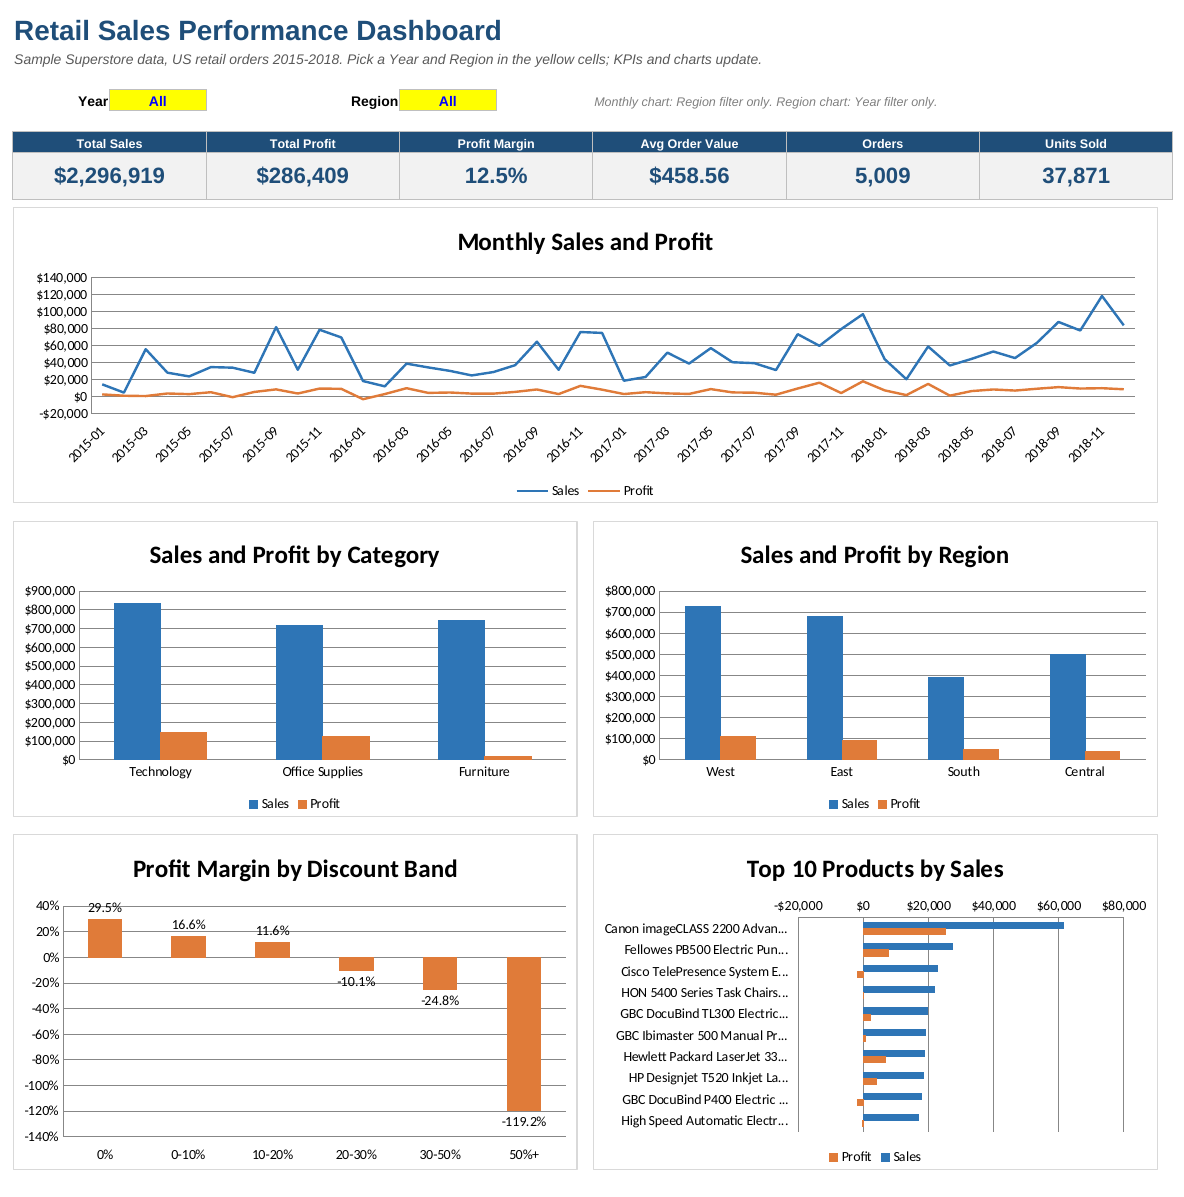

What the dashboard file says about the page in this screenshot:
{"tool":"powerbi","page":{"name":"Overview","canvas":[1920,1080],"ordinal":1},"visuals":[{"type":"slicer","fields":{"Values":["DateTable.Year"]},"box":[35,16.5,179.1,232.6],"z":0},{"type":"slicer","fields":{"Values":["orders_clean.Region"]},"box":[230.5,16.5,150.3,232.6],"z":1000},{"type":"slicer","fields":{"Values":["orders_clean.Category"]},"box":[419.9,16.5,187.3,232.6],"z":2000},{"type":"cardVisual","fields":{"Data":["orders_clean.Total Sales"]},"box":[646.3,12.3,180,180],"z":3000},{"type":"cardVisual","fields":{"Data":["orders_clean.Total Profit"]},"box":[825.4,10.3,179.1,185.2],"z":4000},{"type":"cardVisual","fields":{"Data":["orders_clean.Profit Margin %"]},"box":[1003.6,13.2,180,180],"z":5000},{"type":"cardVisual","fields":{"Data":["orders_clean.Orders"]},"box":[1182.7,15.2,180,180],"z":6000},{"type":"cardVisual","fields":{"Data":["orders_clean.Avg Order Value"]},"box":[1536.7,17.3,180,180],"z":7000},{"type":"cardVisual","fields":{"Data":["orders_clean.Units Sold"]},"box":[1361.8,15.2,180,180],"z":8000},{"type":"cardVisual","fields":{"Data":["orders_clean.Avg Discount %"]},"box":[1715.8,17.3,180,180],"z":9000},{"type":"lineChart","fields":{"Category":["DateTable.Year-Month"],"Y":["orders_clean.Total Profit","orders_clean.Total Sales"]},"box":[0,352,916,553.7],"z":10000},{"type":"clusteredColumnChart","fields":{"Category":["orders_clean.Category"],"Y":["orders_clean.Total Profit","orders_clean.Total Sales"]},"box":[988,209.9,391.1,422],"z":10001},{"type":"clusteredBarChart","fields":{"Category":["orders_clean.Region"],"Y":["orders_clean.Total Profit"]},"box":[1434.7,205.8,409.6,413.7],"z":10002},{"type":"clusteredBarChart","fields":{"Category":["orders_clean.Product Name"],"Y":["orders_clean.Total Sales"]},"box":[959.2,652.5,905.7,395.2],"z":10003}]}

Visuals, with their boxes on the page's 1920x1080 design canvas (x1, y1, x2, y2). These are canvas units, not pixel positions in the 1184x1197 screenshot, which may show the page scaled, cropped or inside an application window:
slicer - DateTable.Year: 35,16,214,249
slicer - orders_clean.Region: 230,16,381,249
slicer - orders_clean.Category: 420,16,607,249
cardVisual - orders_clean.Total Sales: 646,12,826,192
cardVisual - orders_clean.Total Profit: 825,10,1004,196
cardVisual - orders_clean.Profit Margin %: 1004,13,1184,193
cardVisual - orders_clean.Orders: 1183,15,1363,195
cardVisual - orders_clean.Avg Order Value: 1537,17,1717,197
cardVisual - orders_clean.Units Sold: 1362,15,1542,195
cardVisual - orders_clean.Avg Discount %: 1716,17,1896,197
lineChart - DateTable.Year-Month x orders_clean.Total Profit: 0,352,916,906
clusteredColumnChart - orders_clean.Category x orders_clean.Total Profit: 988,210,1379,632
clusteredBarChart - orders_clean.Region x orders_clean.Total Profit: 1435,206,1844,620
clusteredBarChart - orders_clean.Product Name x orders_clean.Total Sales: 959,652,1865,1048
